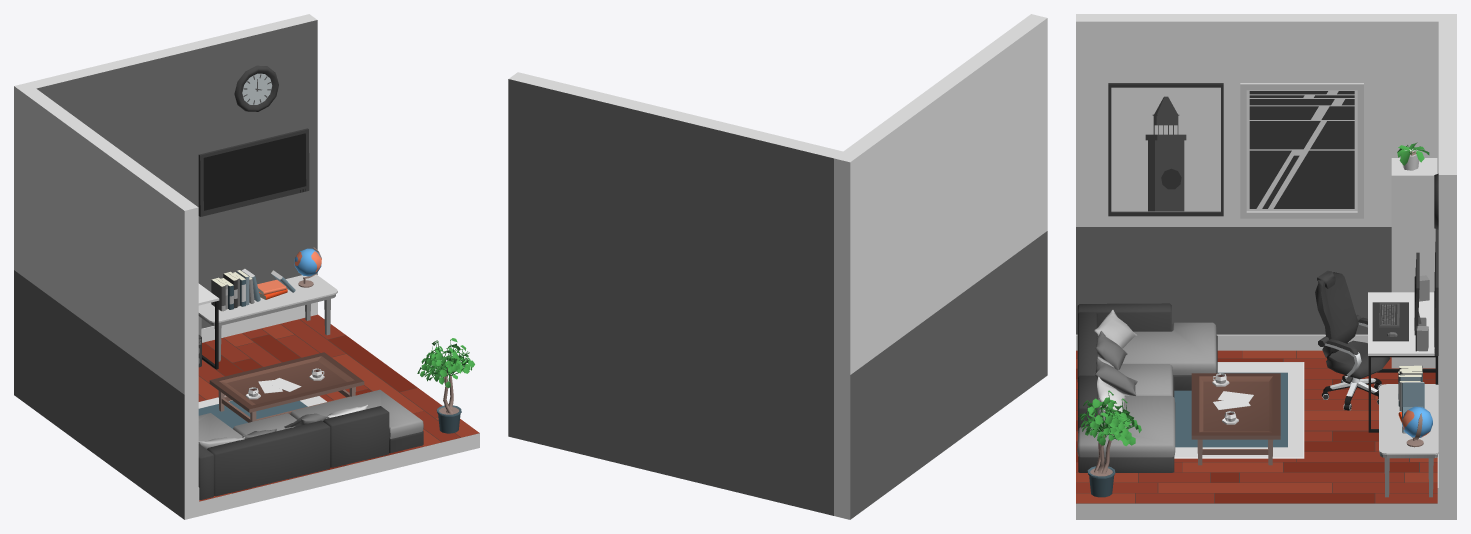
The model's file is room_9.glb.
3 views of the same model, side by side, from view 1: azimuth 30°, elevation 25°; view 2: azimuth 150°, elevation 25°; view 3: azimuth 270°, elevation 25° (orthographic). The views are drawn at different scales.
Parts seen in each view (by area): view 1: Walls_006.027, Walls_046.008, Walls_046.010, sofa_034.001, floor_001.002, electronics_027.003, coffee_table_012.001, Walls_056.004, kitchen_table_017.001, flower_027.001, prop_025.001, prop_001.025 (+5 smaller); view 2: Walls_046.008, Walls_006.027, Walls_046.010; view 3: Walls_006.027, Walls_046.010, floor_001.002, sofa_034.001, picture_012.003, picture_001.004, Walls_046.008, Walls_056.004, shelf_079.001, coffee_table_012.001, carpet_004.002, office_chair_001.002 (+11 smaller).
Boxes of the visible parts, x1,y1,x2,y2 form: Walls_006.027: [14, 82, 198, 394]; Walls_046.008: [28, 14, 317, 328]; Walls_046.010: [14, 270, 198, 519]; sofa_034.001: [198, 389, 423, 499]; floor_001.002: [198, 314, 479, 501]; electronics_027.003: [198, 128, 309, 216]; coffee_table_012.001: [209, 352, 364, 422]; Walls_056.004: [198, 319, 479, 516]; kitchen_table_017.001: [198, 274, 337, 361]; flower_027.001: [417, 338, 474, 433]; prop_025.001: [234, 65, 278, 111]; prop_001.025: [211, 268, 260, 311]; Walls_046.008: [508, 72, 842, 515]; Walls_006.027: [834, 14, 1047, 374]; Walls_046.010: [834, 231, 1047, 519]; Walls_006.027: [1076, 14, 1456, 226]; Walls_046.010: [1076, 227, 1391, 334]; floor_001.002: [1076, 350, 1437, 503]; sofa_034.001: [1077, 303, 1217, 472]; picture_012.003: [1240, 83, 1363, 218]; picture_001.004: [1108, 83, 1223, 216]; Walls_046.008: [1438, 21, 1456, 519]; Walls_056.004: [1076, 350, 1438, 519]; shelf_079.001: [1391, 158, 1437, 368]; coffee_table_012.001: [1191, 373, 1280, 465]; carpet_004.002: [1174, 362, 1304, 458]; office_chair_001.002: [1315, 270, 1390, 410].
Bounding box in the file's own units: 4.28 × 4.2 × 4.2.
1 material, 1 textured.
